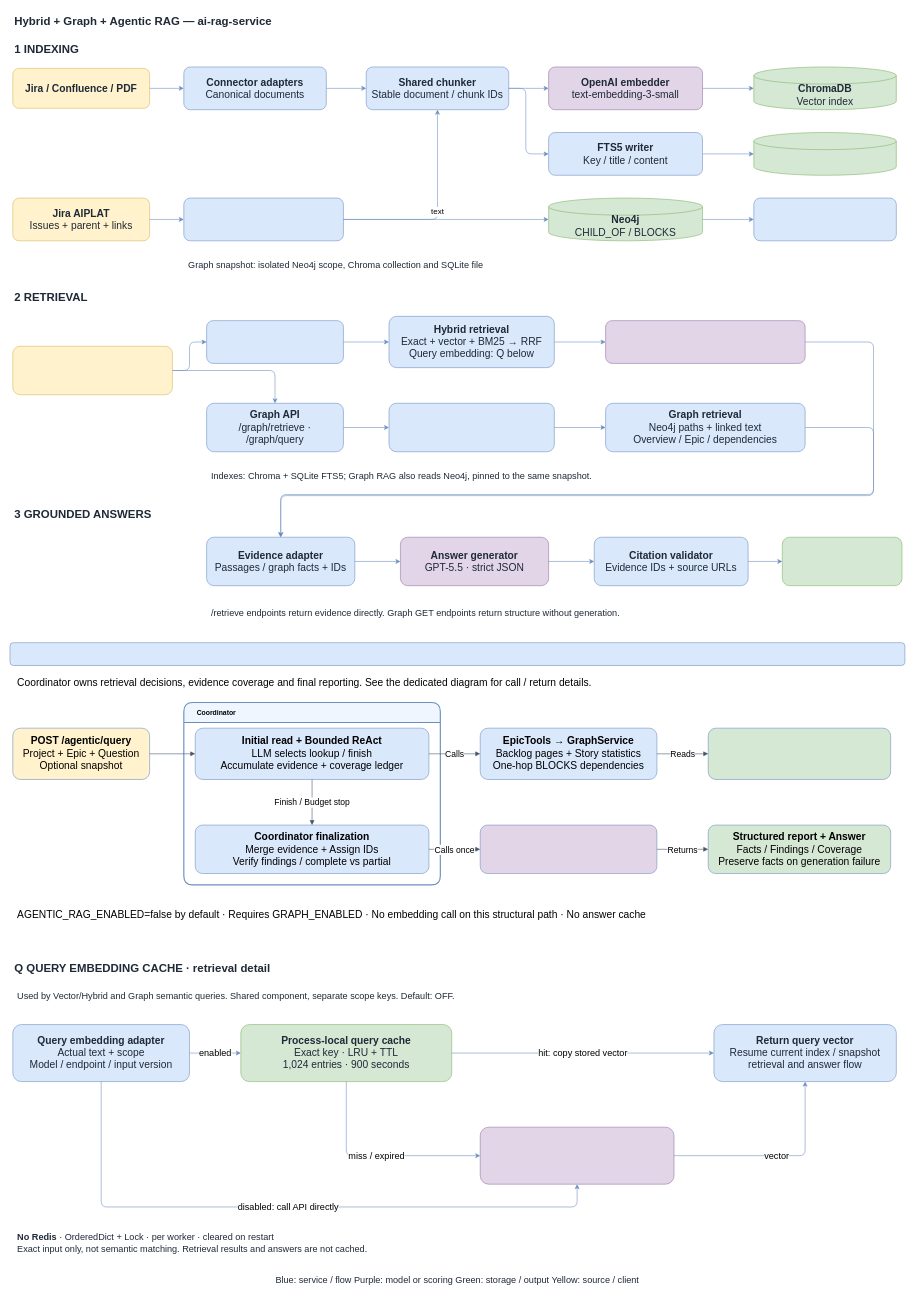
This 915x1299 diagram has some shape labels left out. Each missing label, with the box of its shape:
4 AGENTIC EPIC ANALYSIS · optional platform capability: (9, 642, 905, 665)
Active manifest Publish when 3 stores ready: (753, 198, 896, 241)
Embedding adapter Call OpenAI embedding API Cache valid result if enabled: (480, 1127, 674, 1184)
Existing Neo4j + Manifest Pinned project / snapshot Read-only structural queries: (708, 728, 891, 779)
Graph snapshot builder Normalize + build + publish: (183, 198, 343, 241)
Hybrid API /retrieve · /query: (206, 320, 343, 363)
Platform client / BA-PM demo Question + filters / intent: (12, 346, 172, 395)
ReportGenerator One final LLM call Shared CitationValidator: (480, 825, 657, 874)
Rerank + evidence selection Optional GPT-5.5 / Qwen3: (605, 320, 805, 363)
Response Answer + citations Grounding status: (782, 537, 902, 586)
Seed resolution Explicit key OR SnapshotSearch Semantic embedding: Q below: (388, 403, 554, 452)
SQLite FTS5 Keyword + text index: (753, 132, 896, 175)
